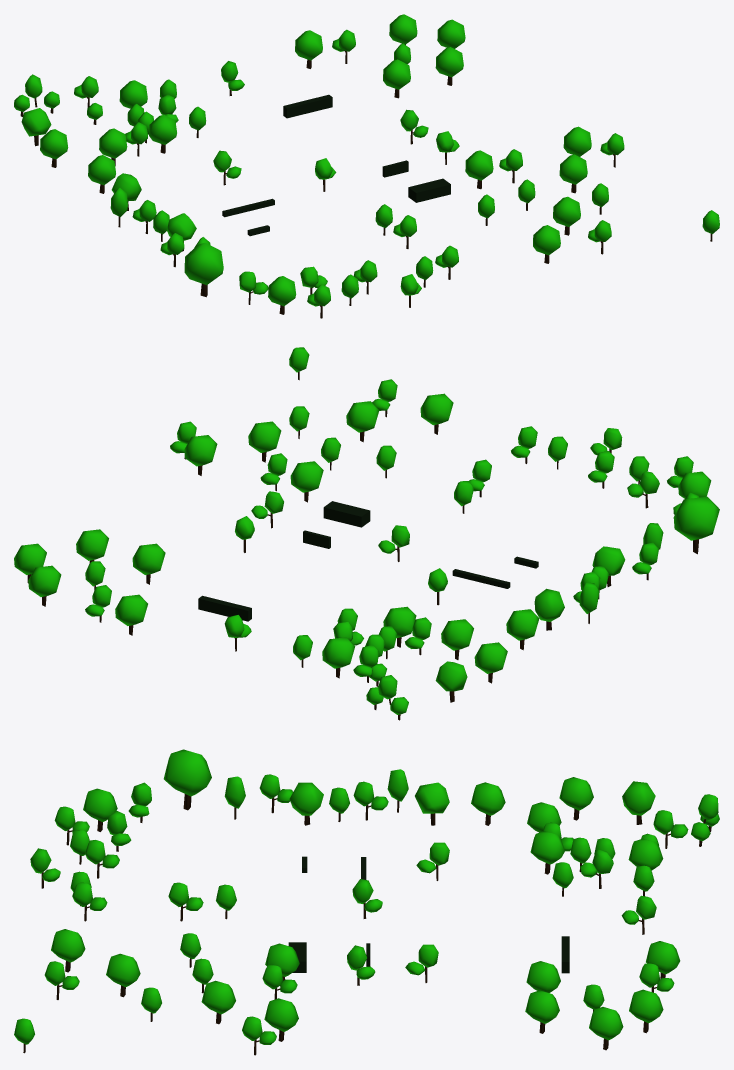
The model's file is Landscaping.FBX.
3 renders of one model, top to bottom at view 1: azimuth 30°, elevation 25°; view 2: azimuth 150°, elevation 25°; view 3: azimuth 270°, elevation 25°, orthographic. The views are drawn at different scales.
Visible parts, largest first — view 1: Combined_00E02CE6; view 2: Combined_00E02CE6; view 3: Combined_00E02CE6.
Boxes of the visible parts, x1=… form: Combined_00E02CE6: x1=14, y1=14, x2=719, y2=318; Combined_00E02CE6: x1=14, y1=347, x2=719, y2=720; Combined_00E02CE6: x1=14, y1=749, x2=719, y2=1055.
Size of what is drawn, in the model's own units: 10718 by 12256 by 1143.
